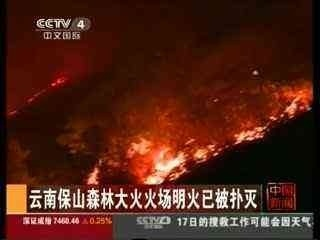fire: (141, 140, 187, 183)
